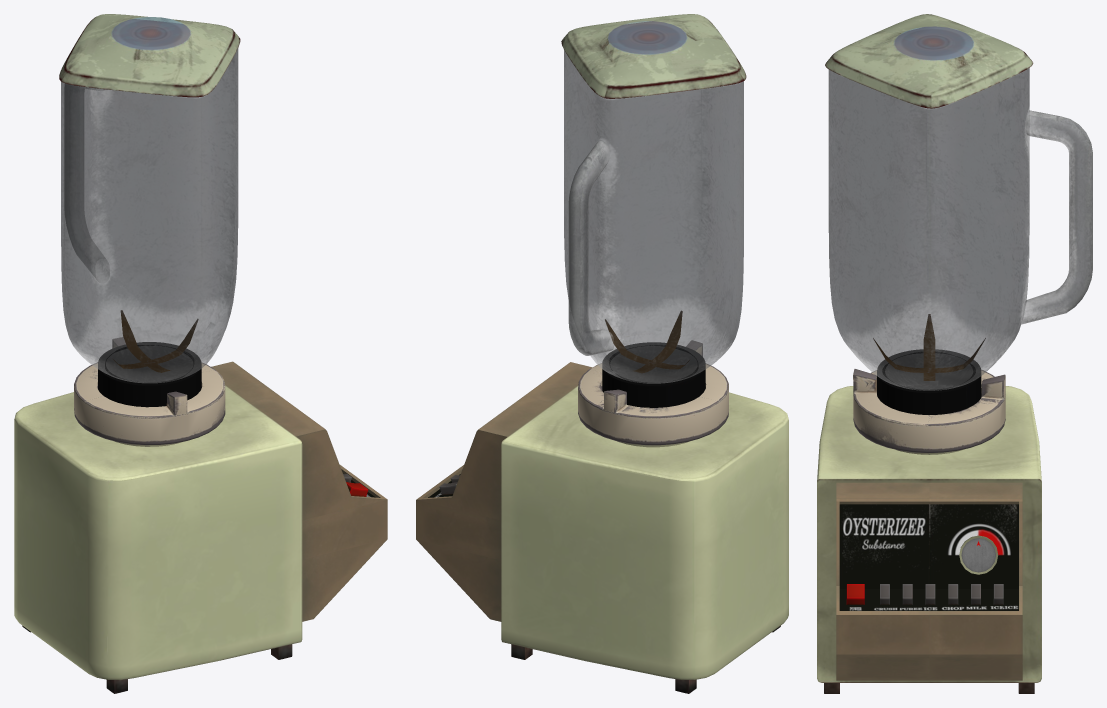
Rendered from licuadora 02 GLB (2).glb.
3 views of the same model, side by side, from view 1: azimuth 30°, elevation 25°; view 2: azimuth 150°, elevation 25°; view 3: azimuth 270°, elevation 25° (orthographic).
Parts seen in each view (by area): view 1: BlenderBase, BlenderGlass, BlenderBaseControl, BlenderTopCap, BlenderCurcularMount, BlenderGlassBottom, Handle, BlenderBlades; view 2: BlenderBase, BlenderGlass, BlenderBaseControl, BlenderTopCap, BlenderCurcularMount, BlenderGlassBottom, Handle, BlenderBlades; view 3: BlenderGlass, BlenderBaseControl, BlenderBase, BlenderTopCap, BlenderCurcularMount, Handle, BlenderGlassBottom, BlenderButtonsSmall, BlenderCylinderKnob, BlenderBlades.
Boxes of the visible parts, x1,y1,x2,y2 form: BlenderBase: (14,385,302,679); BlenderGlass: (61,48,238,383); BlenderBaseControl: (211,361,387,621); BlenderTopCap: (59,14,240,97); BlenderCurcularMount: (74,337,225,446); BlenderGlassBottom: (98,342,201,407); Handle: (64,84,109,282); BlenderBlades: (113,310,198,372); BlenderBase: (501,385,788,679); BlenderGlass: (564,50,743,383); BlenderBaseControl: (416,362,591,621); BlenderTopCap: (561,14,746,98); BlenderCurcularMount: (578,340,728,447); BlenderGlassBottom: (602,342,705,407); Handle: (568,140,614,355); BlenderBlades: (605,310,689,373); BlenderGlass: (828,68,1029,390); BlenderBaseControl: (836,482,1022,680); BlenderBase: (817,386,1041,682); BlenderTopCap: (825,14,1033,108); BlenderCurcularMount: (853,369,1005,454); Handle: (1021,110,1092,324); BlenderGlassBottom: (877,349,981,414); BlenderButtonsSmall: (880,584,1003,604); BlenderCylinderKnob: (959,535,998,574); BlenderBlades: (873,314,985,380).
Bounding box in the file's own units: 269 × 539 × 221.
Materials: 1 (1 with a texture image).
